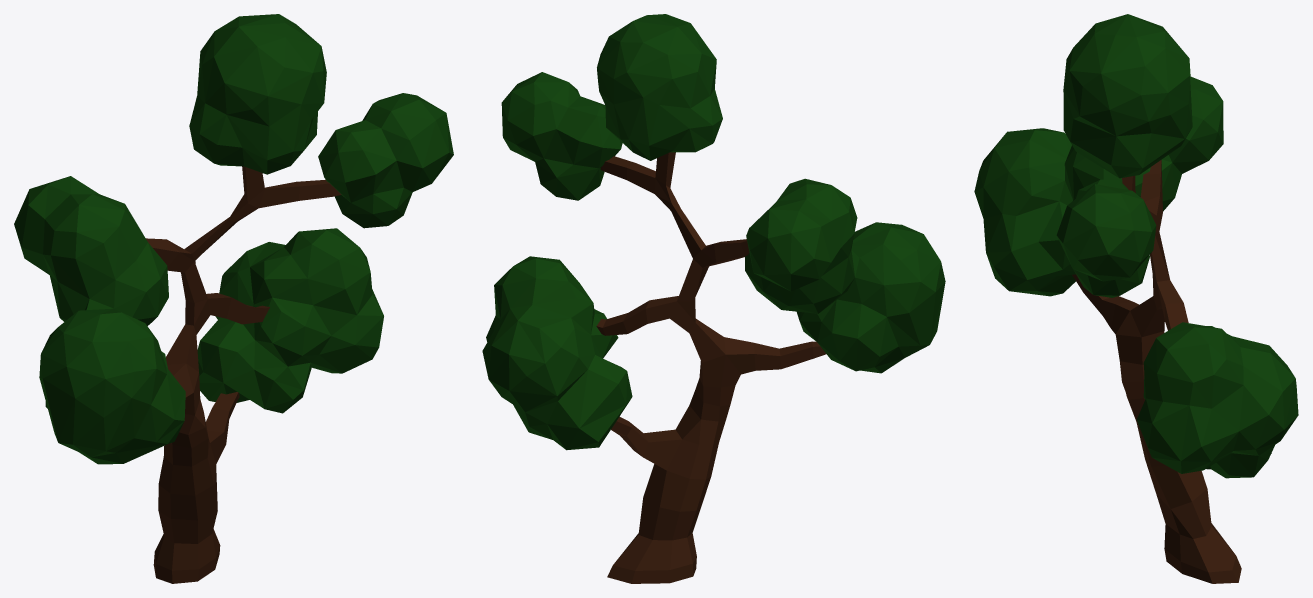
File: Tree5.FBX
The picture shows the model from 3 angles, left to right: view 1: azimuth 30°, elevation 25°; view 2: azimuth 150°, elevation 25°; view 3: azimuth 270°, elevation 25°; orthographic projection. The views are drawn at different scales.
Parts seen in each view (by area): view 1: LowPoly_Tree_05_lowpoly_tree_03_Cube; view 2: LowPoly_Tree_05_lowpoly_tree_03_Cube; view 3: LowPoly_Tree_05_lowpoly_tree_03_Cube.
Part boxes in pixels (x1,y1,x2,y2): LowPoly_Tree_05_lowpoly_tree_03_Cube: [14, 14, 453, 583]; LowPoly_Tree_05_lowpoly_tree_03_Cube: [482, 14, 945, 583]; LowPoly_Tree_05_lowpoly_tree_03_Cube: [974, 14, 1298, 583].
Bounding box in the file's own units: 3.35 × 4.11 × 2.16.
